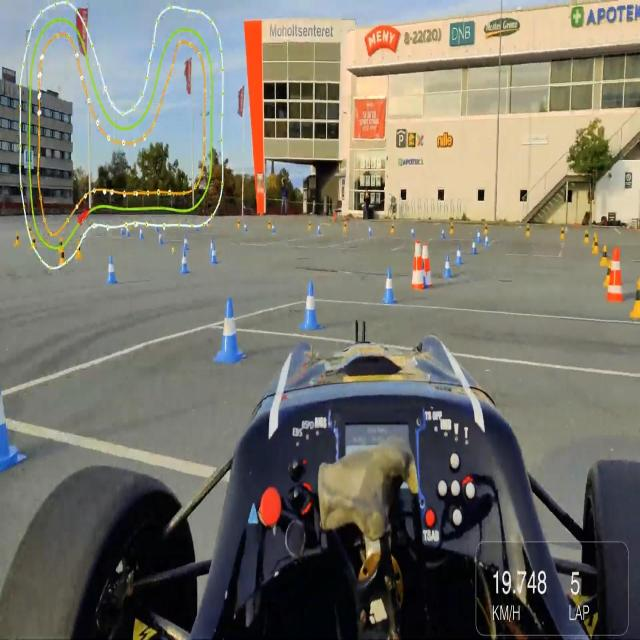blue_cone: (0, 380, 23, 472), (212, 296, 244, 362), (299, 279, 320, 331), (382, 267, 396, 306), (104, 255, 118, 287), (419, 258, 429, 290), (442, 253, 452, 279), (180, 250, 190, 273), (453, 243, 462, 265), (210, 246, 219, 266), (470, 236, 477, 256), (208, 236, 215, 256), (183, 234, 189, 252), (484, 233, 490, 247), (476, 229, 482, 243), (440, 227, 446, 240), (368, 224, 373, 238), (125, 226, 131, 237), (317, 223, 321, 236), (139, 228, 144, 238), (159, 232, 163, 244), (120, 224, 124, 236), (410, 228, 414, 238), (272, 222, 275, 233), (244, 222, 247, 231)
large_orange_cone: (606, 246, 626, 302), (411, 241, 424, 291), (422, 242, 432, 290)
yellow_cone: (630, 277, 640, 321), (603, 257, 614, 289), (74, 240, 85, 260), (600, 245, 609, 268), (58, 245, 66, 267), (30, 234, 39, 251), (592, 238, 600, 255), (591, 232, 599, 249), (57, 236, 64, 253), (14, 233, 20, 248), (584, 230, 590, 244), (560, 226, 566, 240), (483, 221, 489, 233), (526, 223, 531, 236), (390, 221, 395, 233), (307, 221, 312, 232), (450, 222, 454, 235), (267, 219, 272, 229), (343, 221, 347, 232), (237, 219, 240, 230)
